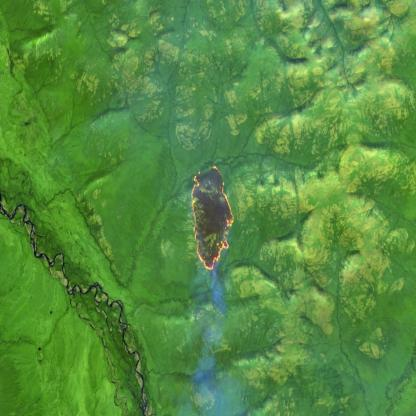fire: (189, 161, 236, 275)
